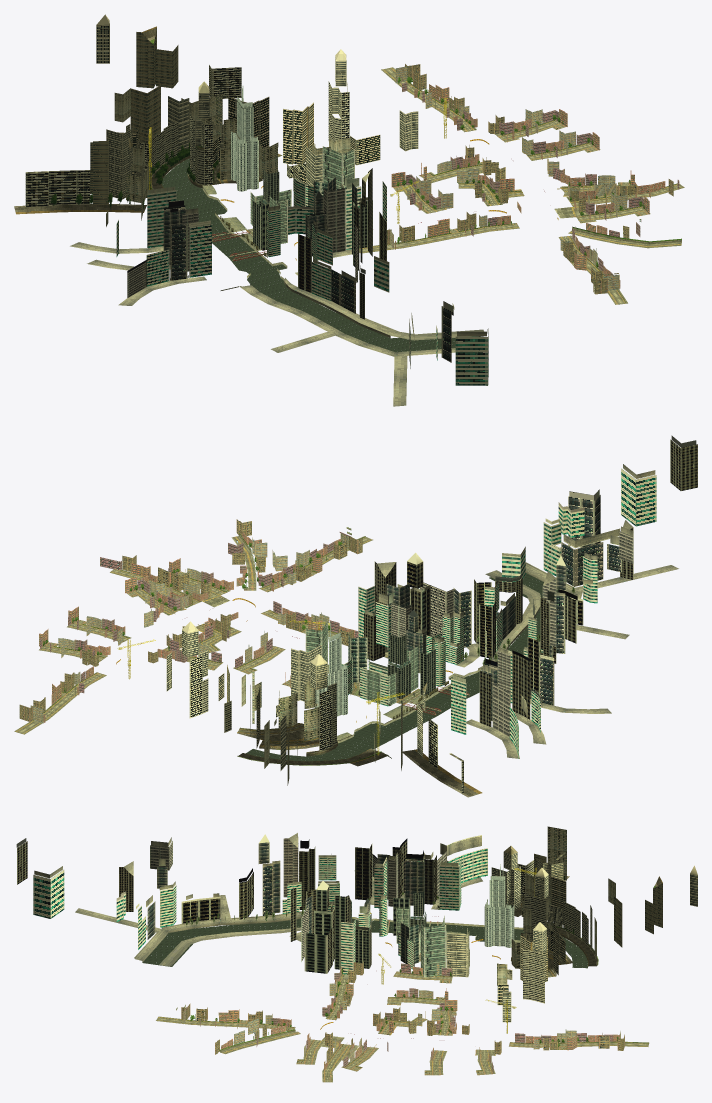
The model's file is track-US_C2_V2_env.glb.
3 views of the same model, one above another, from view 1: azimuth 30°, elevation 25°; view 2: azimuth 150°, elevation 25°; view 3: azimuth 270°, elevation 25° (orthographic). The views are drawn at different scales.
Parts seen in each view (by area): view 1: US_C2_V2_env; view 2: US_C2_V2_env; view 3: US_C2_V2_env.
Boxes of the visible parts, left/top/right/bottom form: US_C2_V2_env: left=14, top=14, right=684, bottom=406; US_C2_V2_env: left=14, top=435, right=697, bottom=797; US_C2_V2_env: left=16, top=826, right=697, bottom=1082.
Bounding box in the file's own units: 2796 × 522 × 3627.
11 materials, 11 textured.
